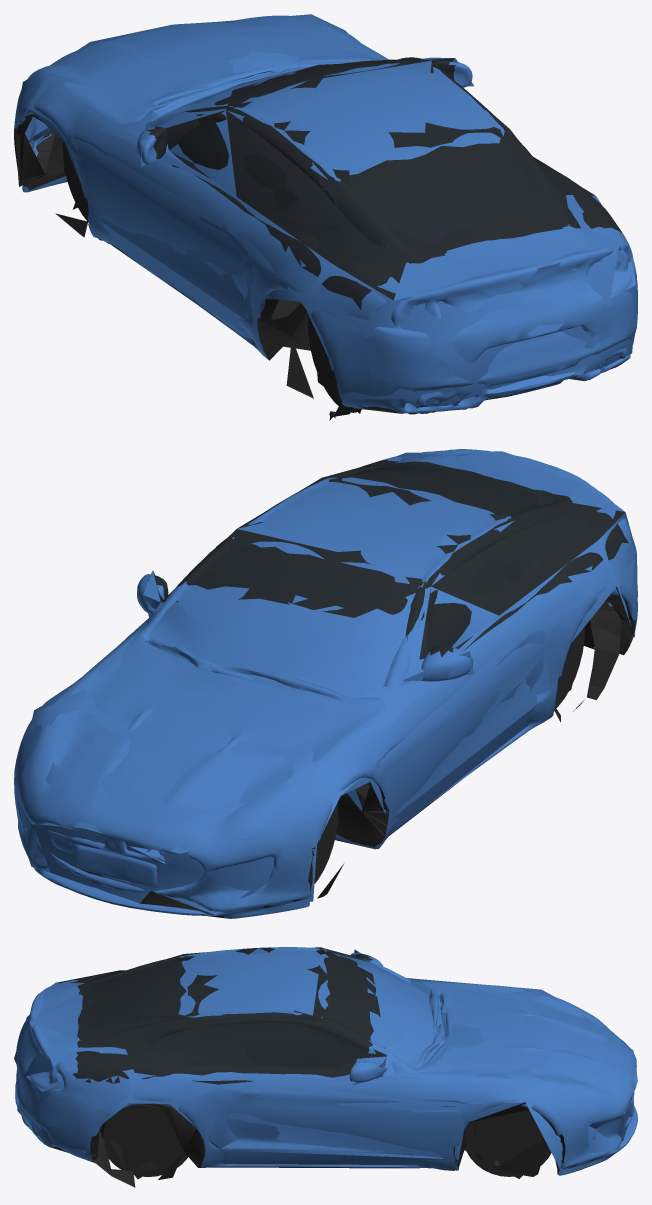
The model's file is jaguar-f-type.glb.
3 renders of one model, top to bottom at view 1: azimuth 30°, elevation 25°; view 2: azimuth 150°, elevation 25°; view 3: azimuth 270°, elevation 25°, orthographic. The views are drawn at different scales.
Parts seen in each view (by area): view 1: body, far; view 2: body, far; view 3: body, far.
Boxes of the visible parts, x1,y1,x2,y2 form: body: (14,15,637,420); far: (14,14,636,413); body: (14,449,637,918); far: (16,451,636,914); body: (15,947,637,1187); far: (14,947,637,1187).
Size of the model in its own units: 2.05 by 1.34 by 4.53.
